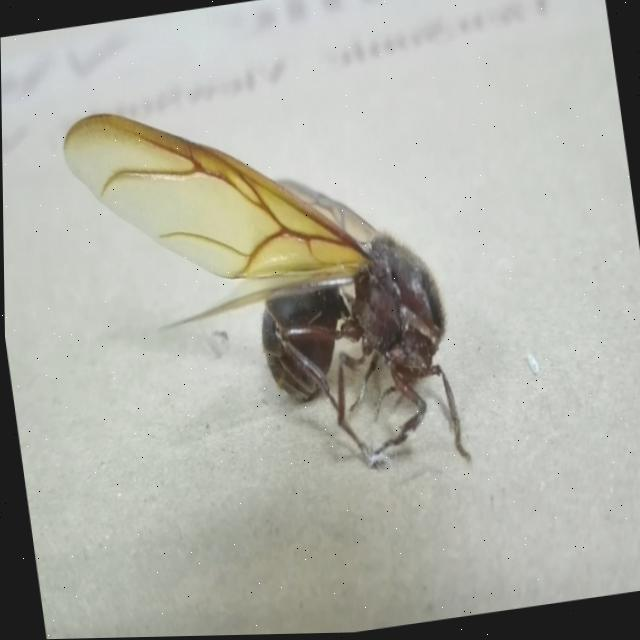Dead-Female-Alate: (56, 65, 472, 516)
